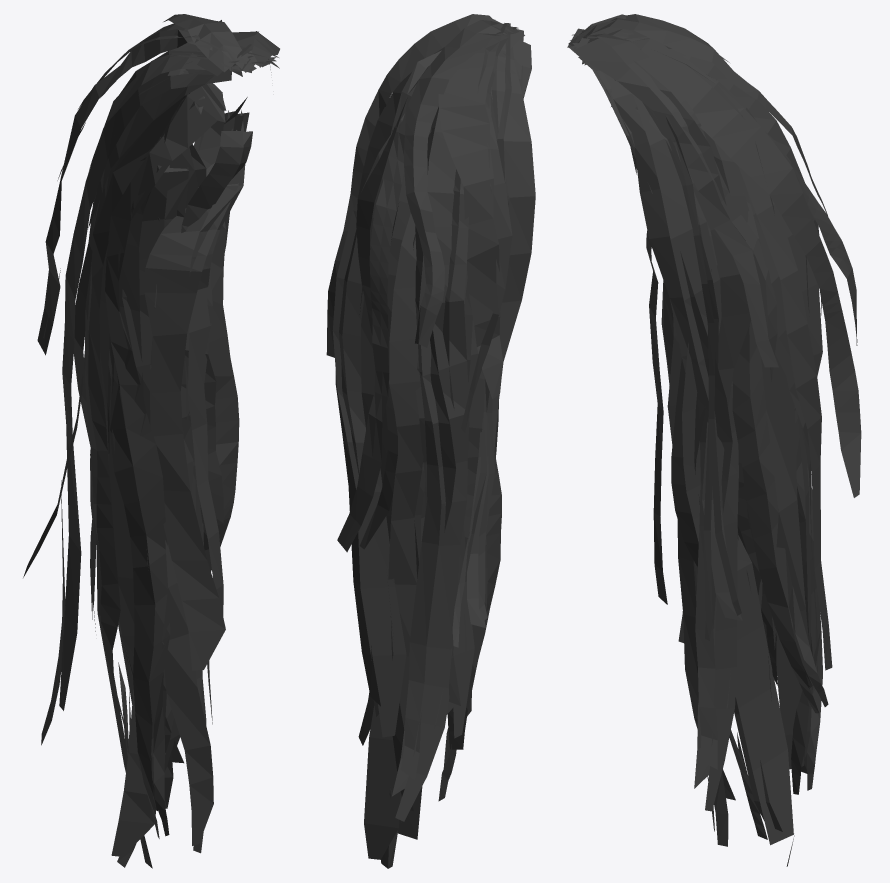
The model's file is Tail.glb.
3 views of the same model, side by side, from view 1: azimuth 30°, elevation 25°; view 2: azimuth 150°, elevation 25°; view 3: azimuth 270°, elevation 25° (orthographic). The views are drawn at different scales.
Parts seen in each view (by area): view 1: Tail; view 2: Tail; view 3: Tail.
Boxes of the visible parts, x1,y1,x2,y2 form: Tail: (23, 14, 279, 868); Tail: (326, 14, 535, 868); Tail: (567, 14, 861, 866).
Bounding box in the file's own units: 29.51 × 124 × 41.86.
Materials: 1 (1 with a texture image).
